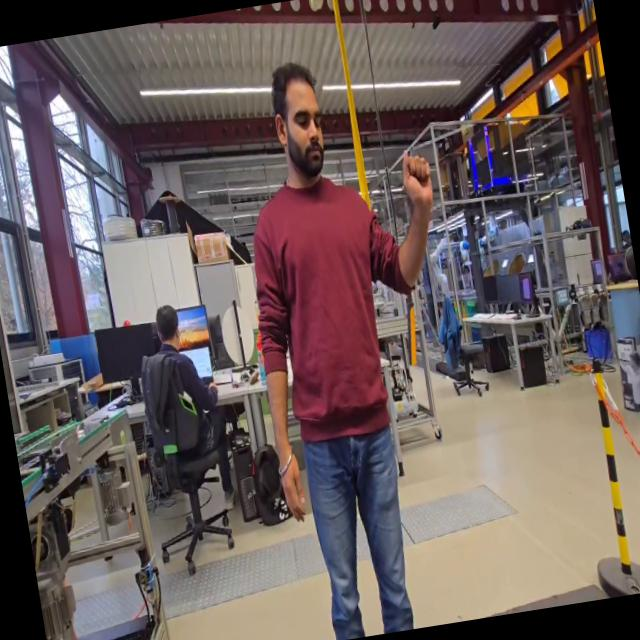closed_fist: (393, 142, 443, 226)
